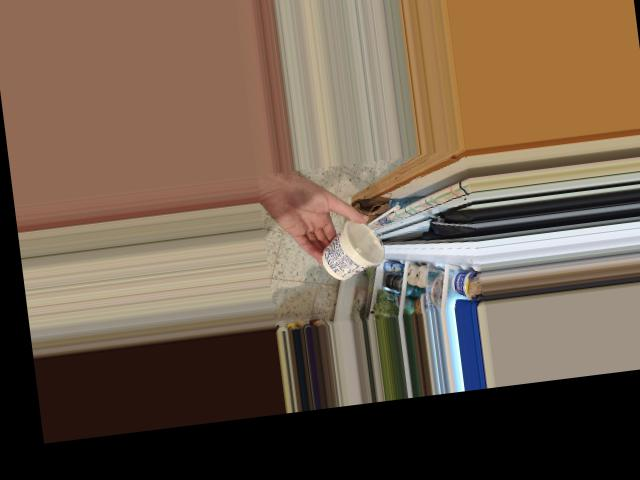cotage: (323, 219, 389, 279)
